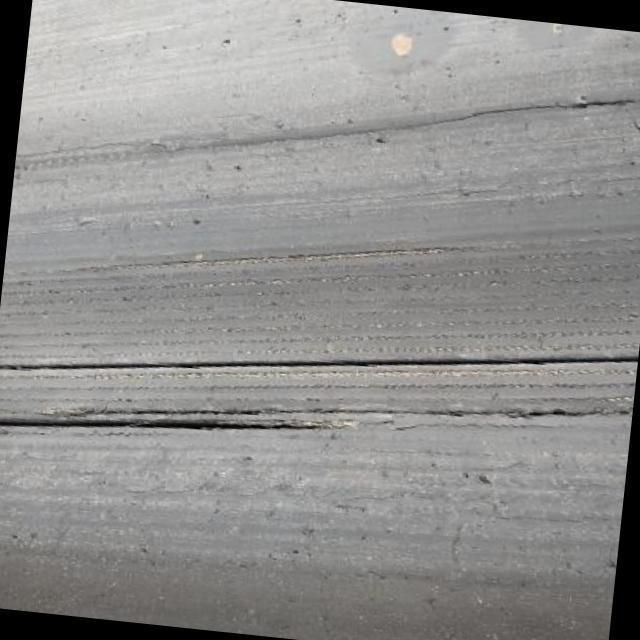Tear: (0, 352, 640, 376), (68, 403, 634, 421), (443, 89, 639, 124), (0, 414, 328, 434)
Wear: (0, 242, 640, 364)
